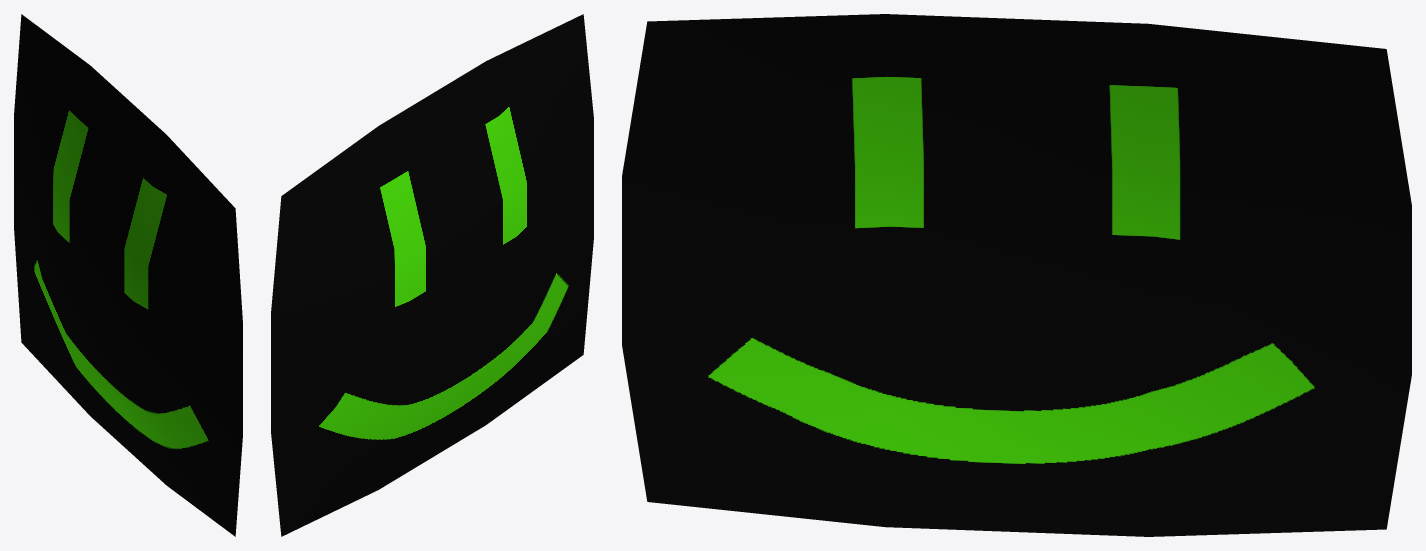
Rendered from robot face.fbx.
3 renders of one model, left to right at view 1: azimuth 30°, elevation 25°; view 2: azimuth 150°, elevation 25°; view 3: azimuth 270°, elevation 25°, orthographic. The views are drawn at different scales.
Visible parts, largest first — view 1: Face; view 2: Face; view 3: Face.
Part boxes in pixels (x1,y1,x2,y2): Face: (14,14,242,536); Face: (271,14,593,536); Face: (622,14,1411,536).
Size of the model in its own units: 14.63 by 84 by 117.
1 material, 1 textured.
